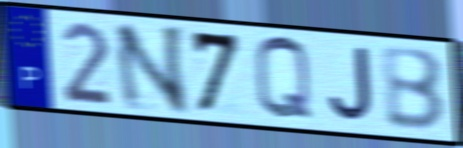2: (57, 18, 115, 107)
7: (190, 28, 243, 115)
B: (378, 47, 448, 135)
J: (326, 45, 375, 125)
N: (111, 23, 191, 116)
Q: (251, 33, 316, 124)
